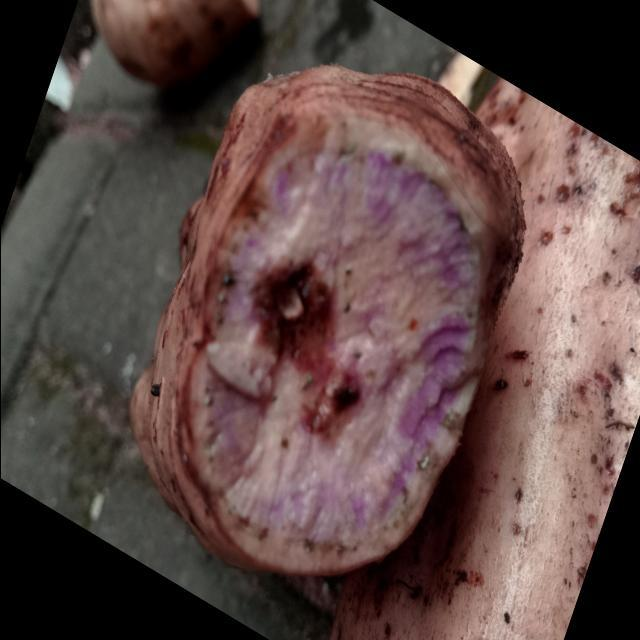Sick Sweet Potato_Tuber Rot: (189, 123, 480, 573)
